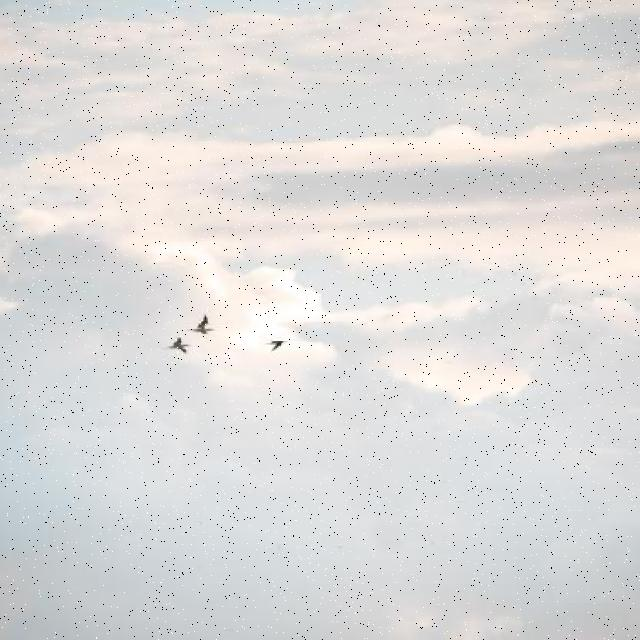bird: (187, 314, 216, 334), (162, 338, 193, 353), (261, 340, 290, 352)
